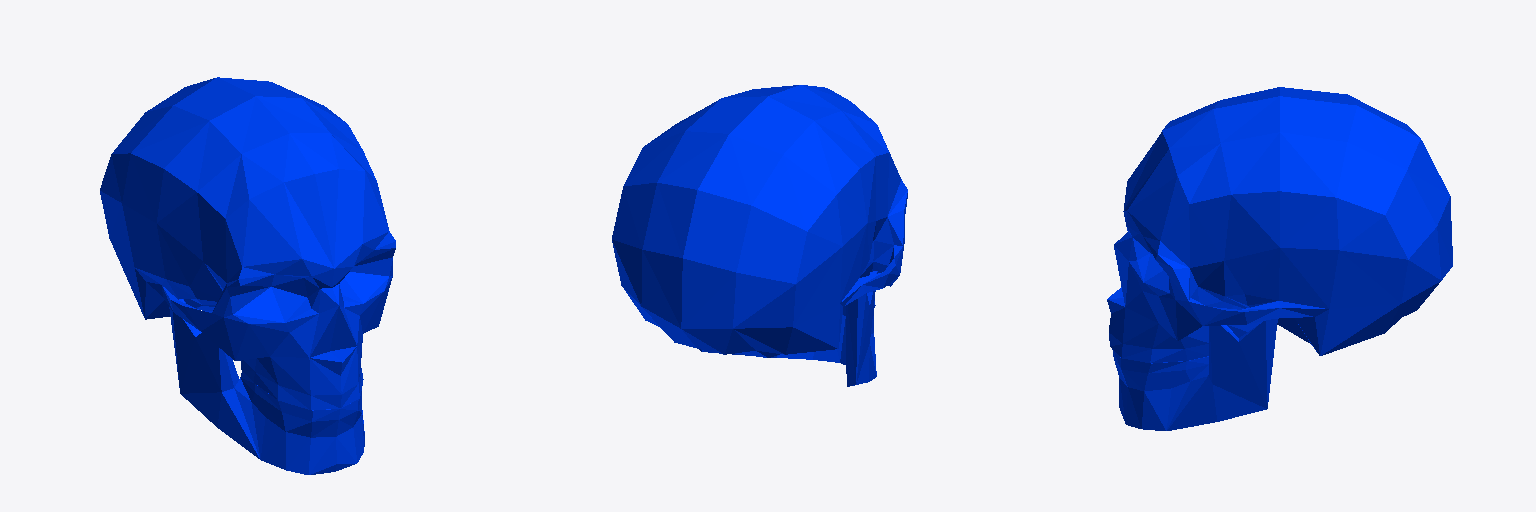
File: skull.obj
The picture shows the model from 3 angles: view 1: azimuth 30°, elevation 25°; view 2: azimuth 150°, elevation 25°; view 3: azimuth 270°, elevation 25°; orthographic projection.
Parts seen in each view (by area): view 1: Cube, Cube.001; view 2: Cube, Cube.001; view 3: Cube, Cube.001.
Part boxes in pixels (left/top/right/bottom): Cube: left=100, top=77, right=395, bottom=409; Cube.001: left=169, top=299, right=364, bottom=474; Cube: left=612, top=85, right=907, bottom=357; Cube.001: left=699, top=271, right=877, bottom=386; Cube: left=1107, top=87, right=1452, bottom=362; Cube.001: left=1112, top=306, right=1277, bottom=430.
Bounding box in the file's own units: 1.36 × 1.99 × 1.95.